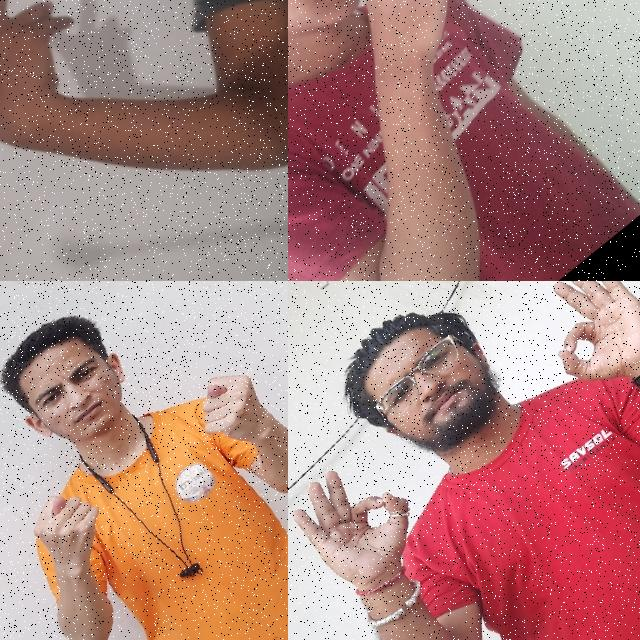Dulya: (174, 347, 288, 467), (8, 470, 124, 587)
Fist Mouth: (288, 0, 542, 194)
Okay: (288, 430, 450, 618), (500, 281, 640, 416)
Reversed Victory: (0, 0, 160, 193)
